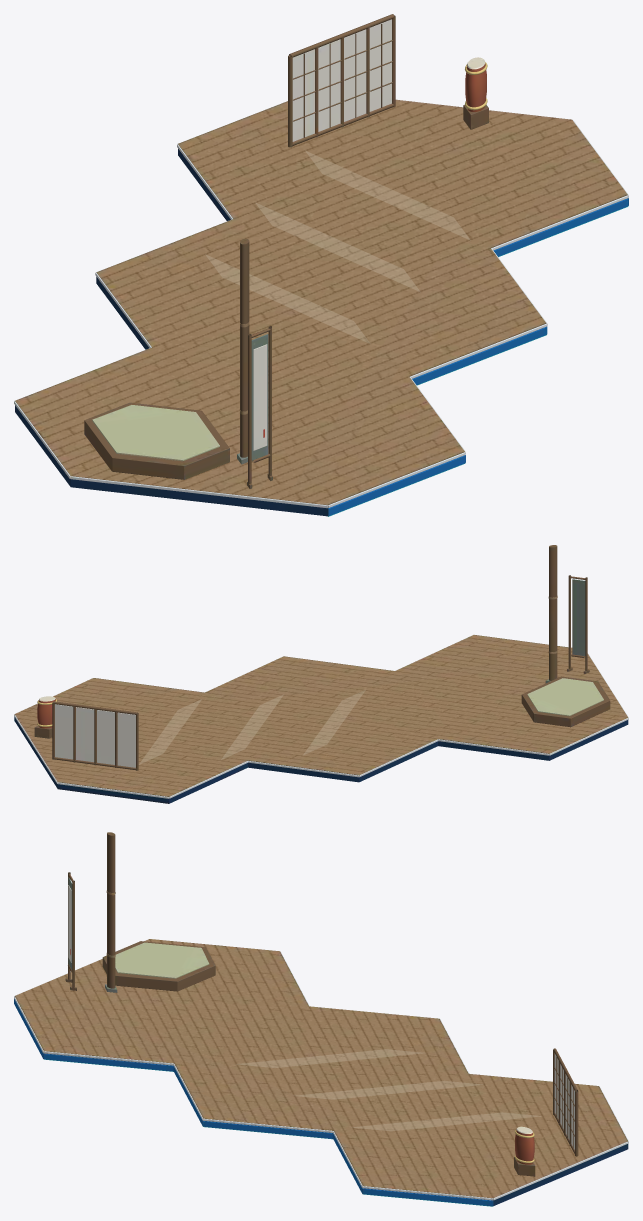
File: field_cm04_01.glb
3 views of the same model, one above another, from view 1: azimuth 30°, elevation 25°; view 2: azimuth 150°, elevation 25°; view 3: azimuth 270°, elevation 25° (orthographic). The views are drawn at different scales.
Visible parts, largest first — view 1: field_cm04_01-runtime-static; view 2: field_cm04_01-runtime-static; view 3: field_cm04_01-runtime-static.
Part boxes in pixels (x1,y1,x2,y2): field_cm04_01-runtime-static: (14, 14, 628, 516); field_cm04_01-runtime-static: (14, 545, 628, 803); field_cm04_01-runtime-static: (14, 832, 628, 1206).
Bounding box in the file's own units: 16.36 × 4.84 × 16.36.
1 material, 1 textured.
